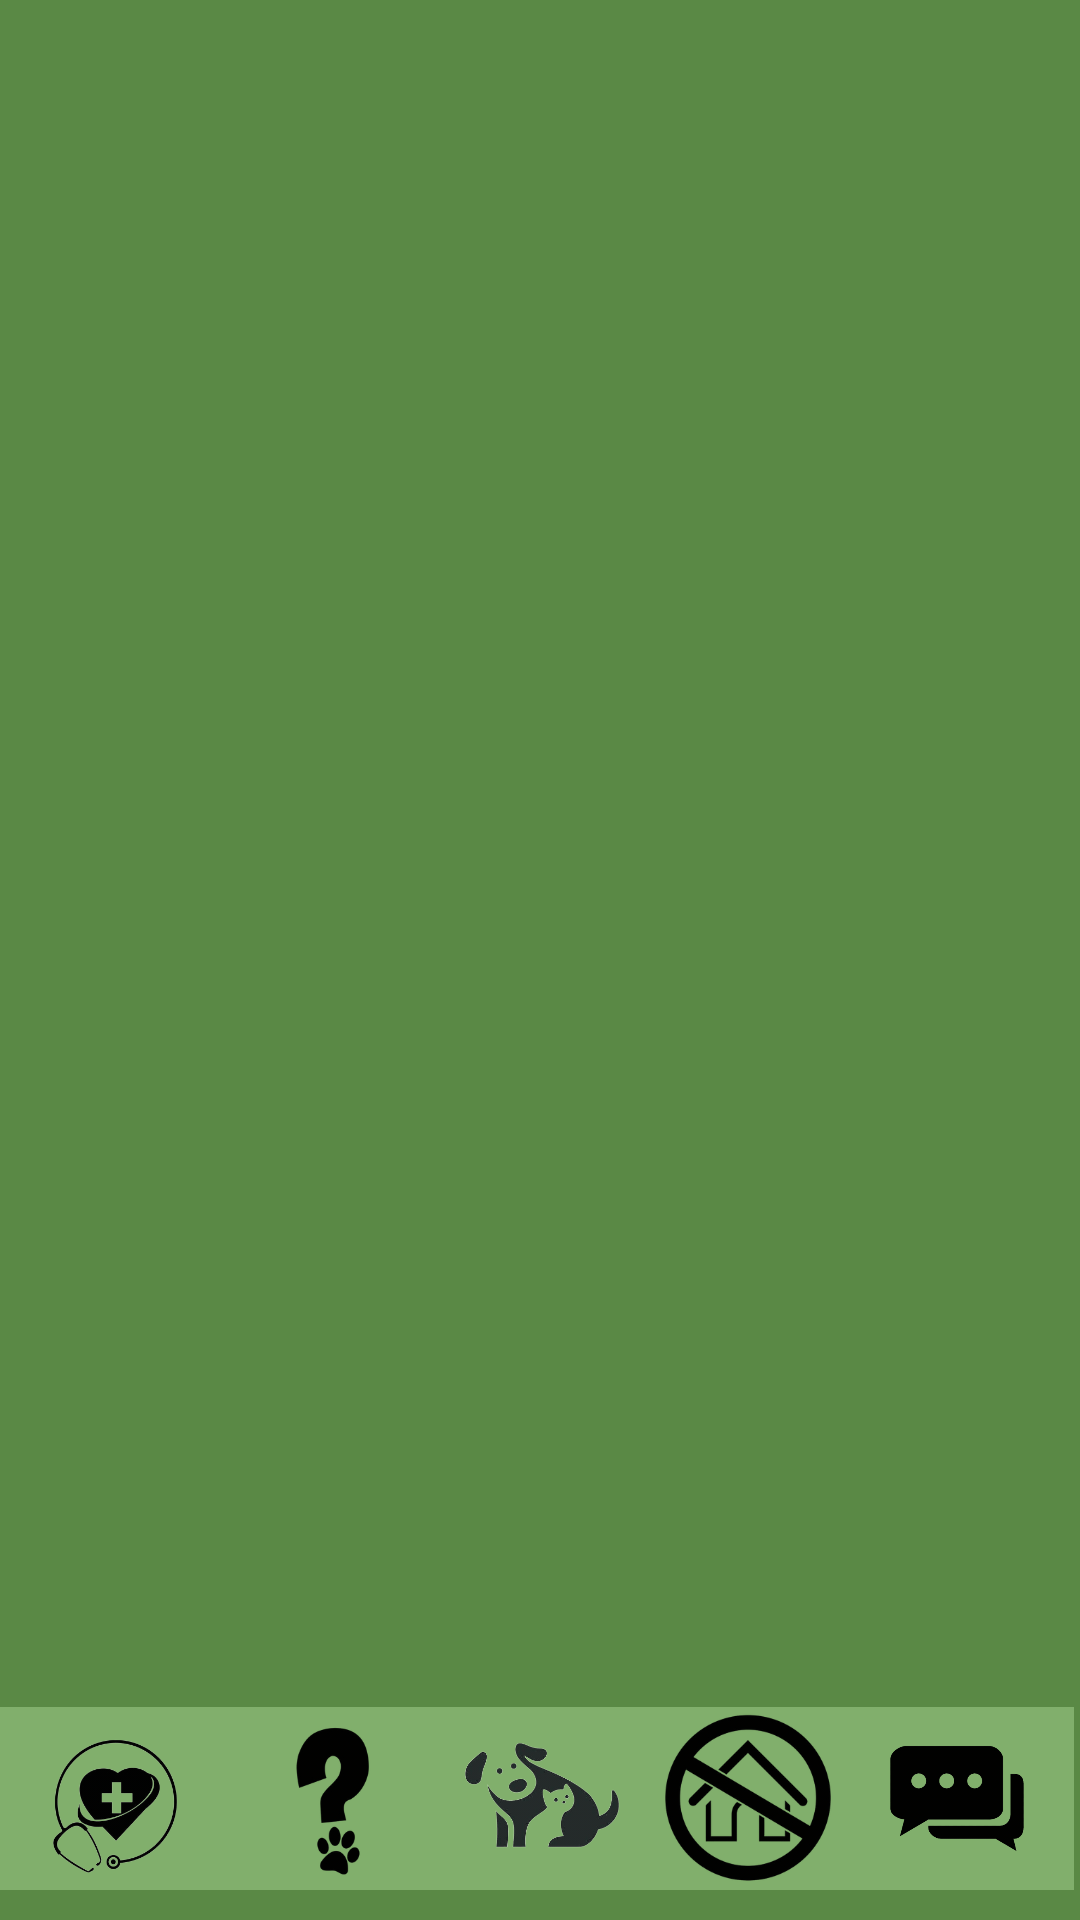

Locate icon controls on the screen. Image size 1080 x 1920, boxes as (x1, y1, x2, y2).
Botón de Abandonados: (665, 1715, 831, 1881)
Botón de Centro: (53, 1740, 177, 1873)
Botón de Chats: (840, 1707, 1074, 1890)
Botón de Mascotas: (465, 1743, 619, 1847)
Botón de Perdidos: (296, 1728, 369, 1875)
